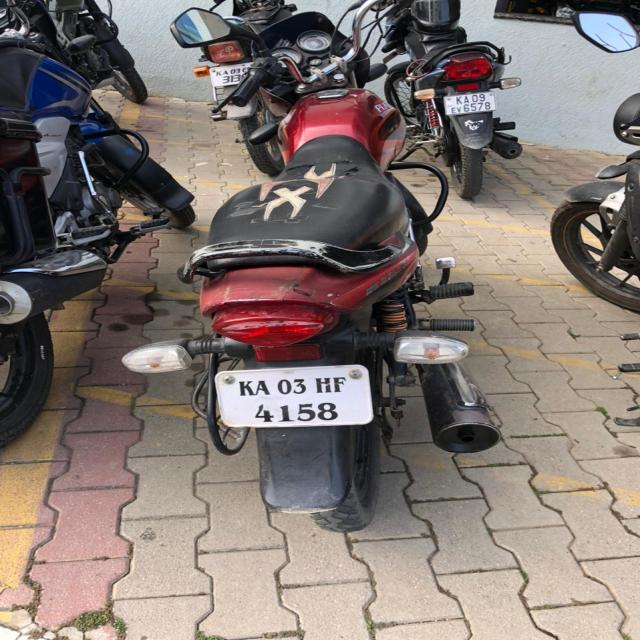license_plate: (213, 364, 374, 428), (442, 91, 497, 115)
